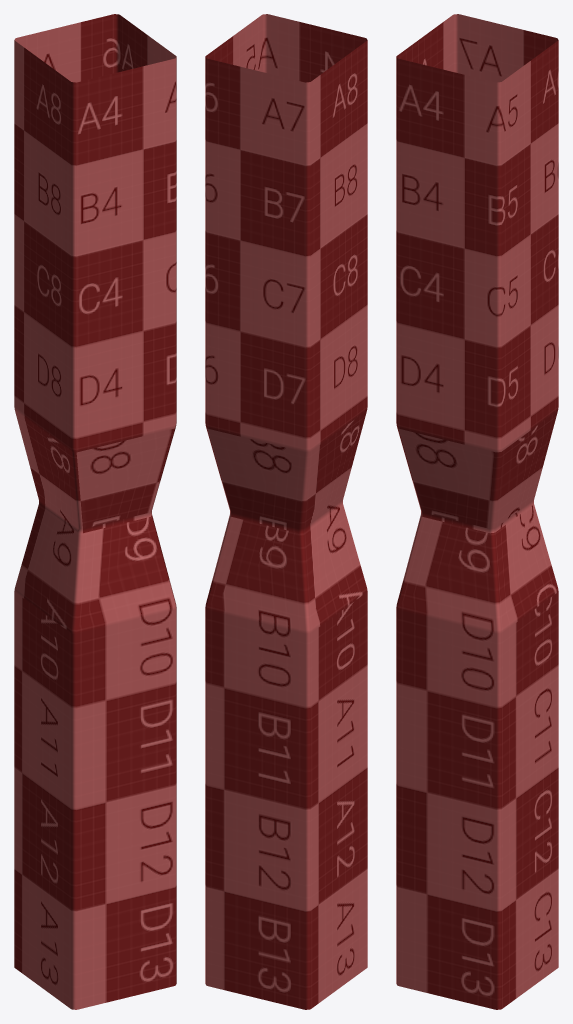
The model's file is techartConroner.fbx.
3 views of the same model, side by side, from view 1: azimuth 30°, elevation 25°; view 2: azimuth 150°, elevation 25°; view 3: azimuth 330°, elevation 25° (orthographic).
Visible parts, largest first — view 1: Cube.007; view 2: Cube.007; view 3: Cube.007.
Part boxes in pixels (x1=…): Cube.007: x1=14, y1=14, x2=176, y2=1009; Cube.007: x1=205, y1=14, x2=367, y2=1009; Cube.007: x1=396, y1=14, x2=558, y2=1009.
Size of the model in its own units: 60 by 505 by 60.
